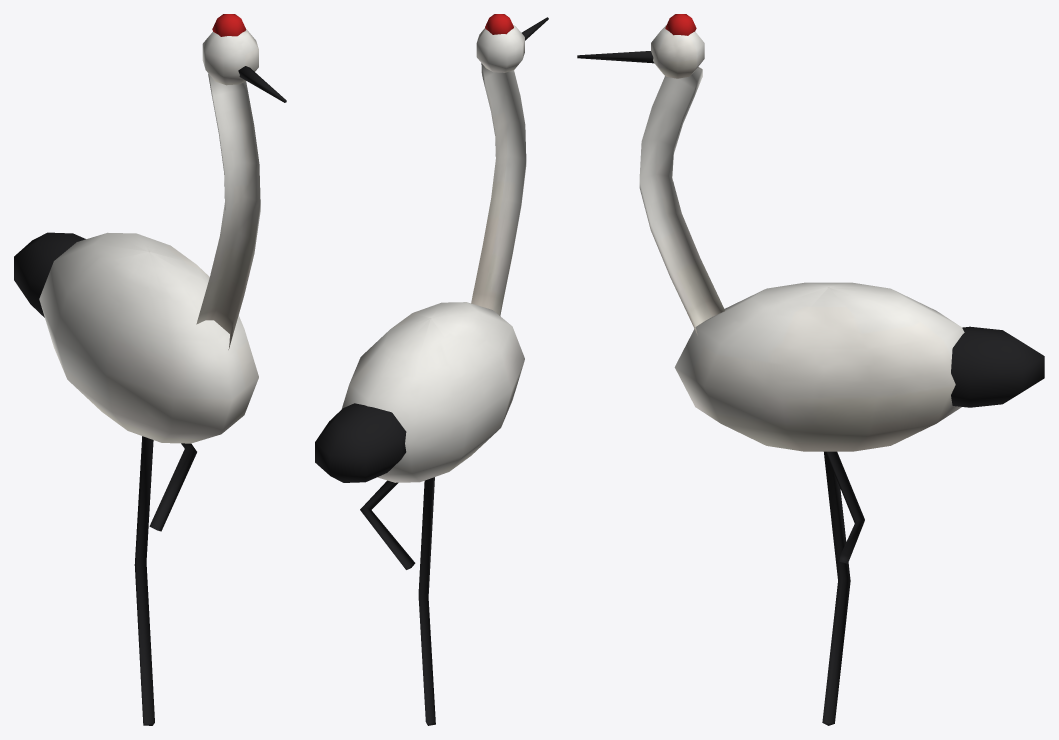
File: crane_figure.glb
3 renders of one model, left to right at view 1: azimuth 30°, elevation 25°; view 2: azimuth 150°, elevation 25°; view 3: azimuth 270°, elevation 25°, orthographic. The views are drawn at different scales.
Parts seen in each view (by area): view 1: Crane, CraneBlack, CraneRed; view 2: Crane, CraneBlack, CraneRed; view 3: Crane, CraneBlack.
Part boxes in pixels (bbox=[...]): Crane: bbox=[39, 29, 260, 443]; CraneBlack: bbox=[14, 66, 286, 725]; CraneRed: bbox=[212, 14, 245, 36]; Crane: bbox=[342, 25, 526, 482]; CraneBlack: bbox=[315, 17, 548, 725]; CraneRed: bbox=[485, 14, 513, 34]; Crane: bbox=[639, 25, 964, 451]; CraneBlack: bbox=[577, 51, 1044, 725].
Size of the model in its own units: 0.466 by 2.49 by 1.49.
Materials: 3 (1 with a texture image).
